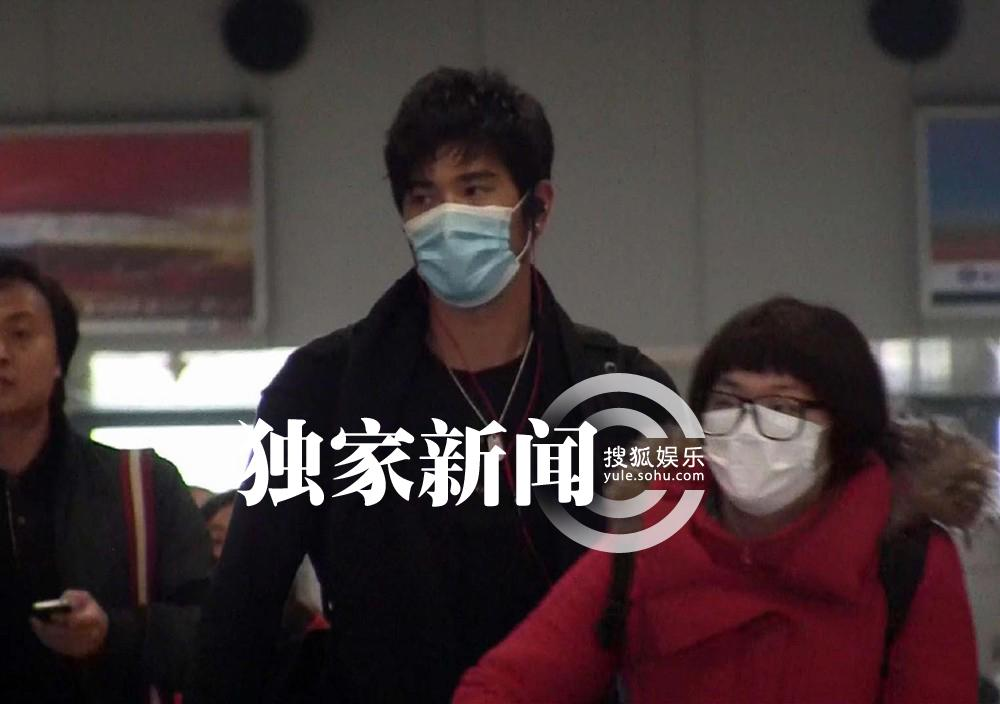mask: (389, 171, 544, 315), (685, 393, 838, 521)
